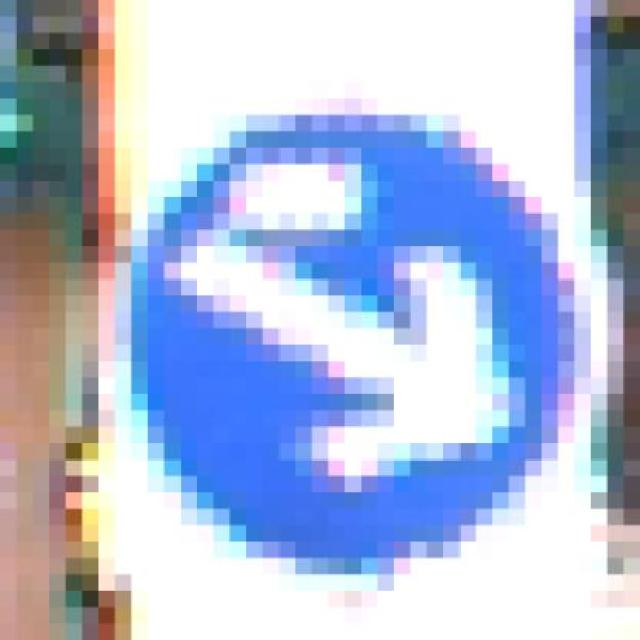Keep-Right: (82, 98, 608, 591)
